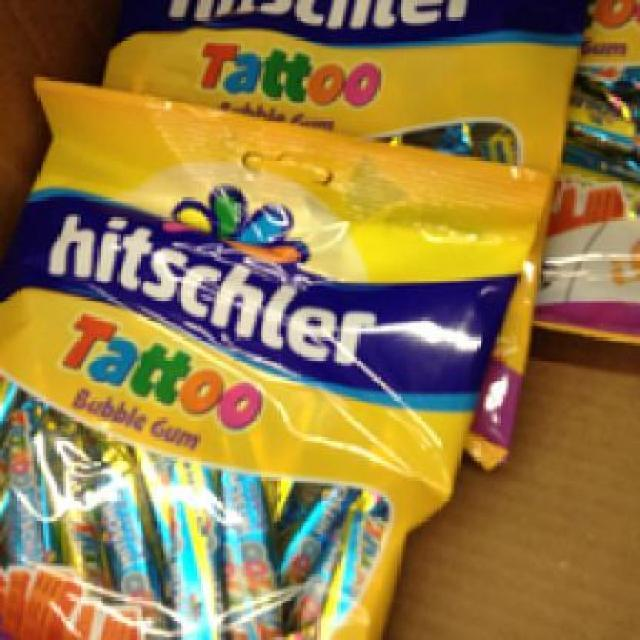Candy: (2, 77, 512, 637)
